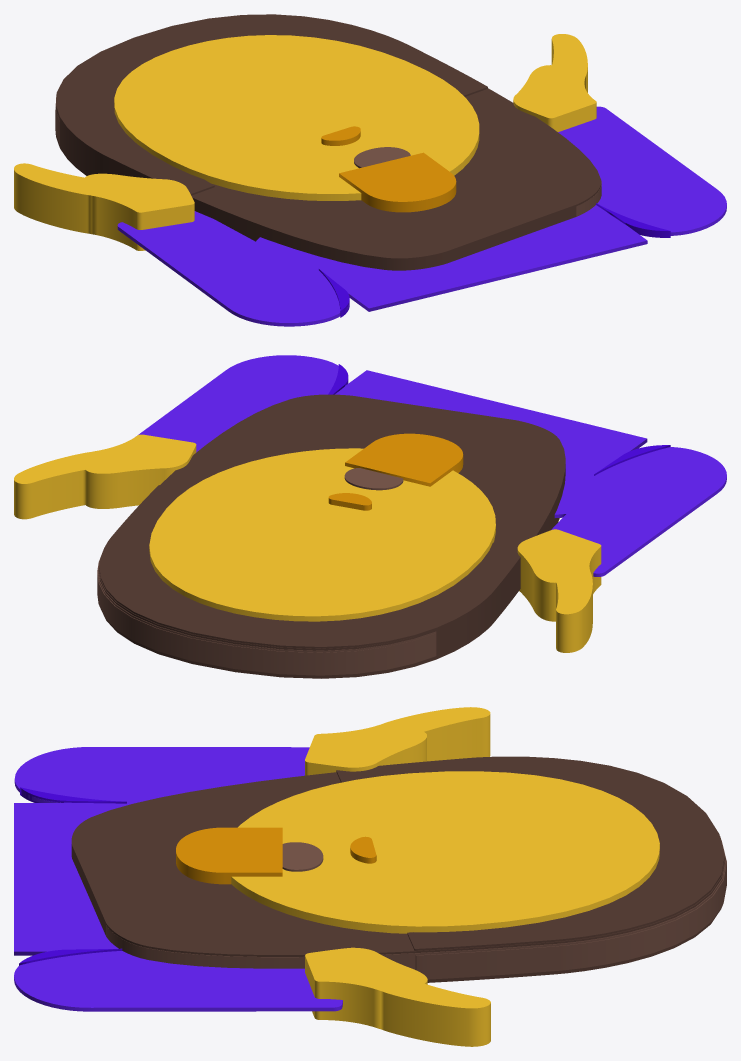
File: emoji_u1f937_200d_2640.glb
3 renders of one model, top to bottom at view 1: azimuth 30°, elevation 25°; view 2: azimuth 150°, elevation 25°; view 3: azimuth 270°, elevation 25°, orthographic. The views are drawn at different scales.
Parts seen in each view (by area): view 1: emoji_u1f937_200d_2640; view 2: emoji_u1f937_200d_2640; view 3: emoji_u1f937_200d_2640.
Boxes of the visible parts, x1=… form: emoji_u1f937_200d_2640: x1=14, y1=14, x2=726, y2=326; emoji_u1f937_200d_2640: x1=14, y1=355, x2=726, y2=678; emoji_u1f937_200d_2640: x1=14, y1=707, x2=726, y2=1046.
Bounding box in the file's own units: 0.0335 × 0.003 × 0.0337.
